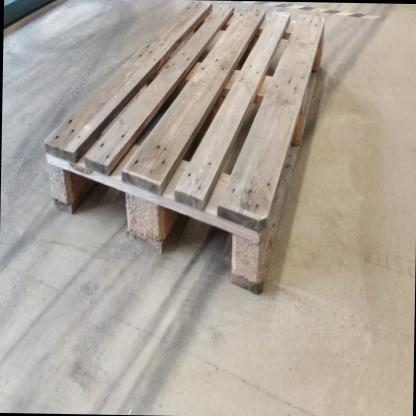BoxFace: (39, 4, 329, 298)
